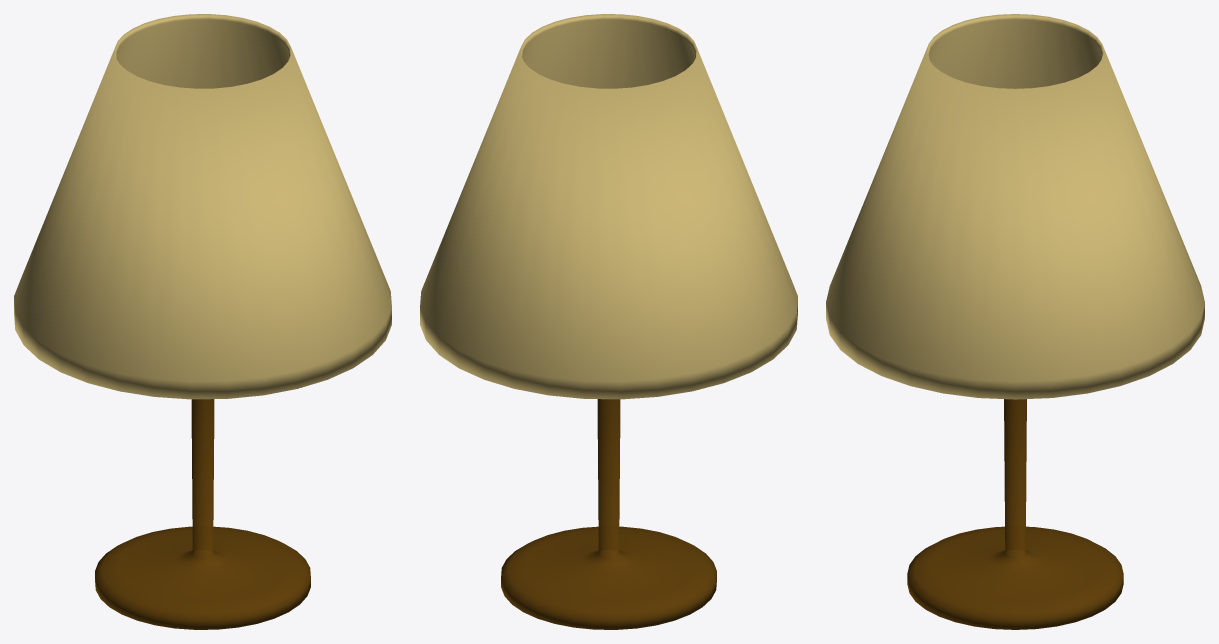
Rendered from VJ_Lampara_Taula.fbx.
3 renders of one model, left to right at view 1: azimuth 30°, elevation 25°; view 2: azimuth 150°, elevation 25°; view 3: azimuth 270°, elevation 25°, orthographic.
Visible parts, largest first — view 1: Lampara_Taula; view 2: Lampara_Taula; view 3: Lampara_Taula.
Boxes of the visible parts, left/top/right/bottom form: Lampara_Taula: left=14, top=14, right=391, bottom=629; Lampara_Taula: left=420, top=14, right=797, bottom=629; Lampara_Taula: left=826, top=14, right=1204, bottom=629.
Bounding box in the file's own units: 3.65 × 5.67 × 3.65.
